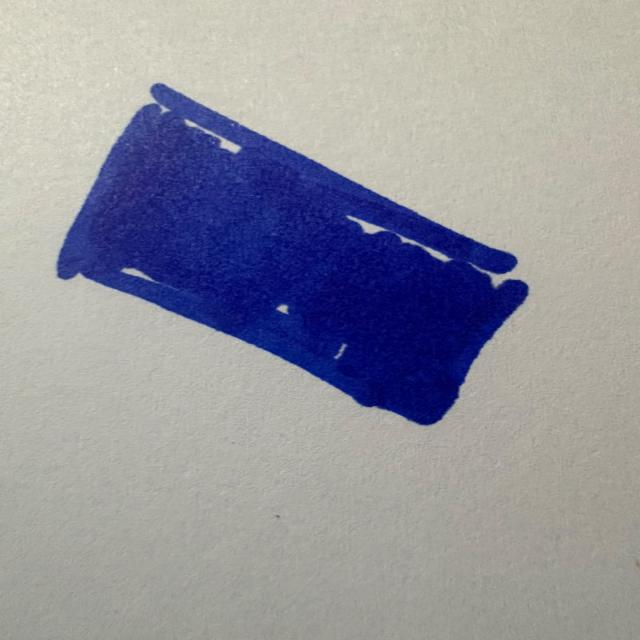Rectangle: (58, 84, 528, 426)
